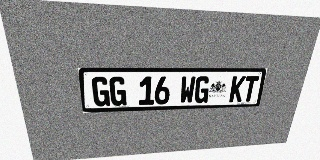1: (139, 76, 155, 105)
6: (154, 76, 171, 105)
G: (91, 77, 110, 106), (109, 77, 127, 106), (194, 76, 211, 103)
K: (229, 76, 246, 102)
T: (242, 76, 259, 102)
W: (179, 76, 196, 104)
